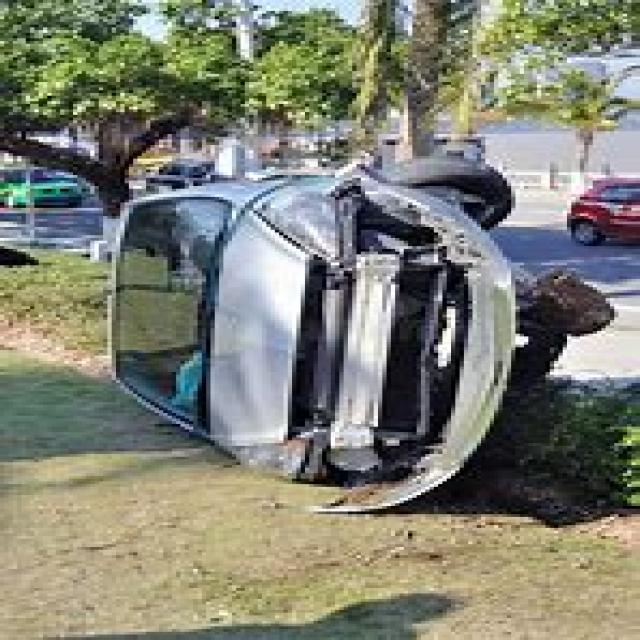Accident: (81, 117, 640, 534)
